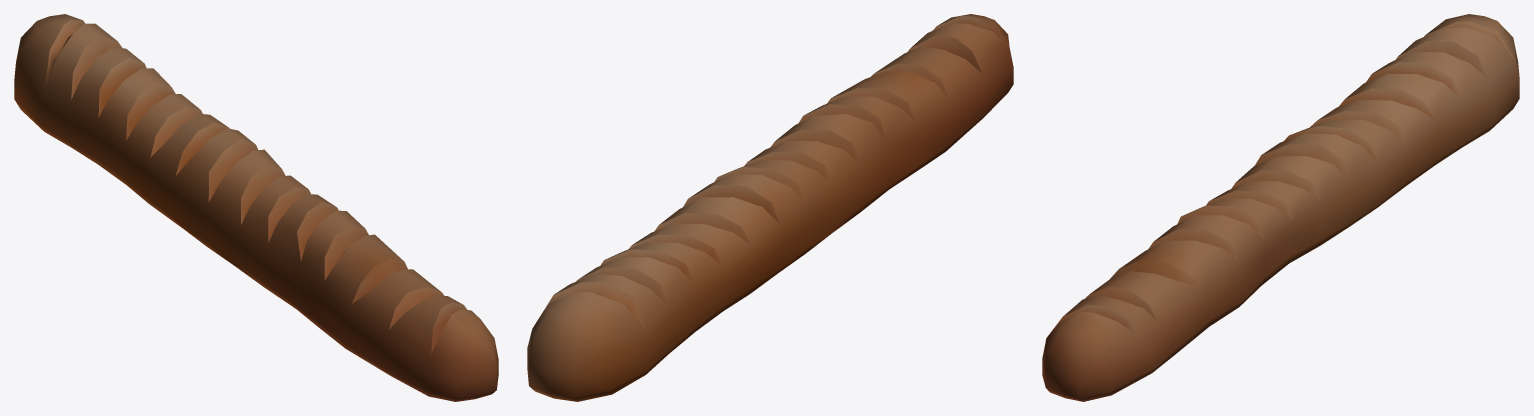
The model's file is Baguette.glb.
3 renders of one model, left to right at view 1: azimuth 30°, elevation 25°; view 2: azimuth 150°, elevation 25°; view 3: azimuth 330°, elevation 25°, orthographic.
Parts seen in each view (by area): view 1: geometry_0; view 2: geometry_0; view 3: geometry_0.
Boxes of the visible parts, x1,y1,x2,y2 form: geometry_0: (14,14,498,401); geometry_0: (527,14,1013,401); geometry_0: (1042,14,1519,401).
Bounding box in the file's own units: 0.0746 × 0.0666 × 0.6046.
1 material, 1 textured.
